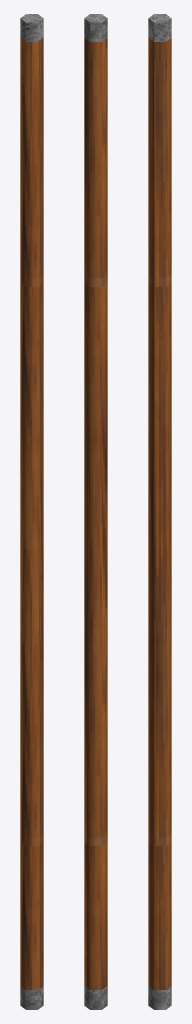
File: BasicStaff.fbx
3 views of the same model, side by side, from view 1: azimuth 30°, elevation 25°; view 2: azimuth 210°, elevation 25°; view 3: azimuth 270°, elevation 25° (orthographic).
Parts seen in each view (by area): view 1: Staff; view 2: Staff; view 3: Staff.
Part boxes in pixels (x1=…): Staff: x1=20, y1=14, x2=43, y2=1009; Staff: x1=84, y1=14, x2=107, y2=1009; Staff: x1=148, y1=14, x2=171, y2=1009.
Size of the model in its own units: 0.0346 by 1.87 by 0.04.
